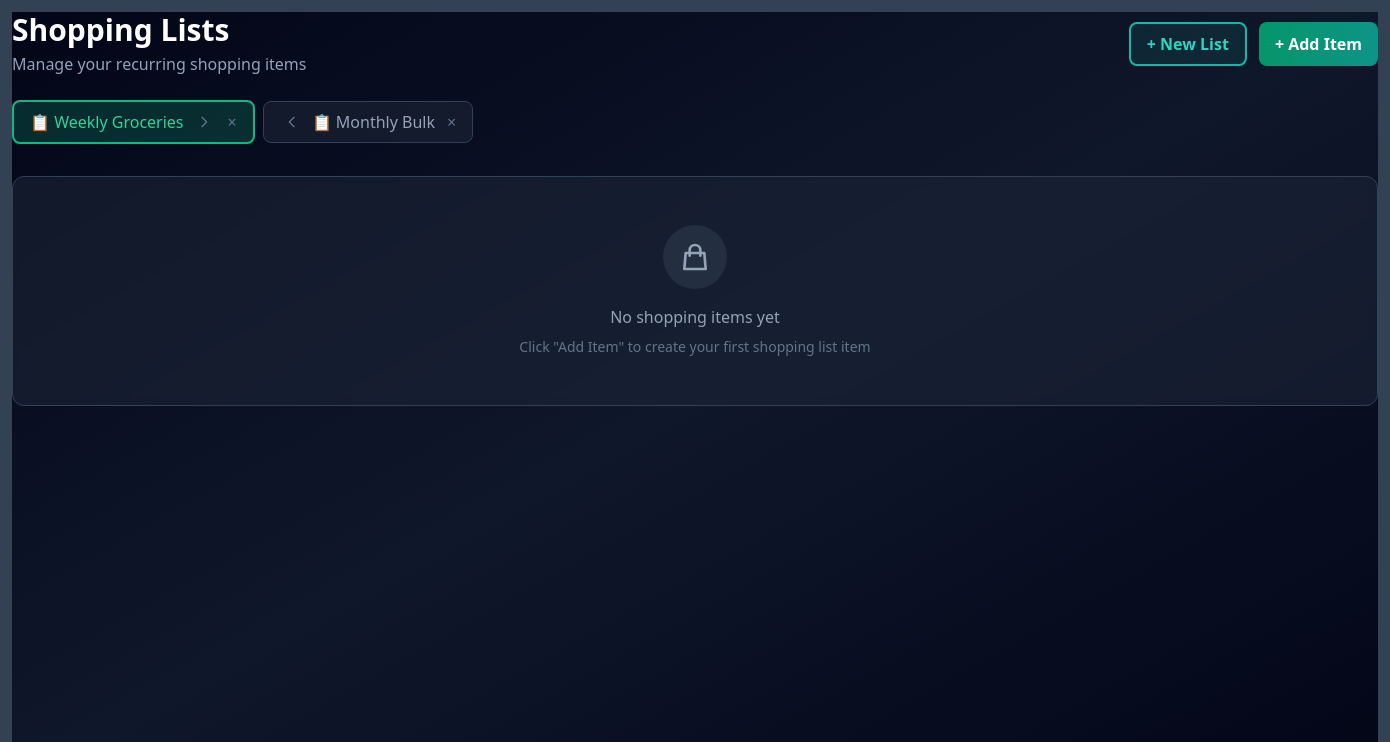
it: ShoppingManager Component › List Management › should open add list form when clicking new list button
Click the button "+ New List".
click(1188, 44)  # box [1129,22,1247,66]
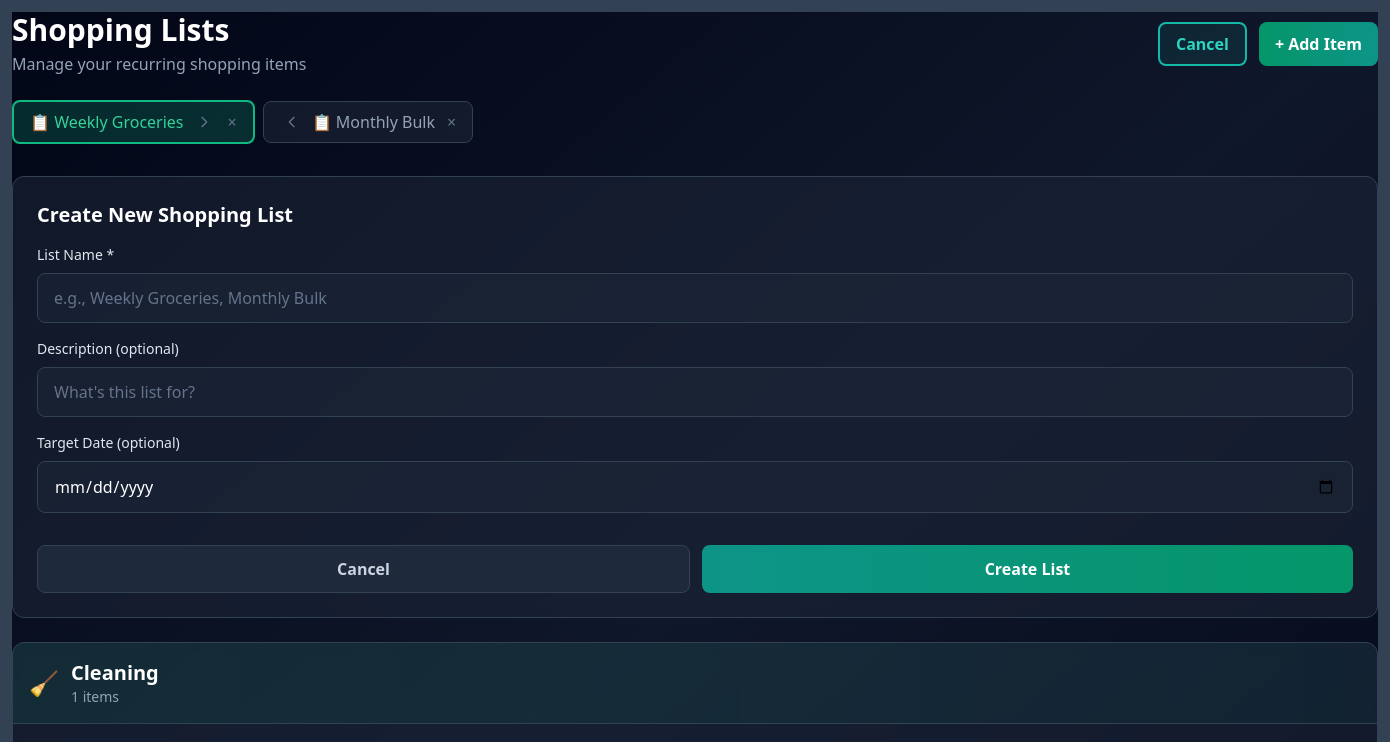
Expected: the heading "Create New Shopping List" is shown, [37,201,293,228]
